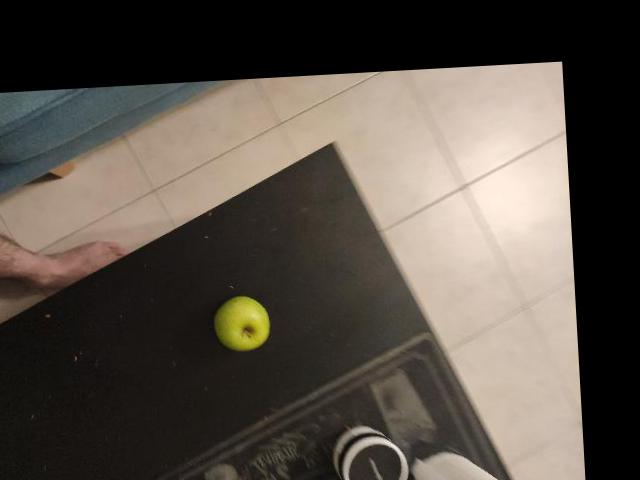apple: (275, 168, 363, 255)
